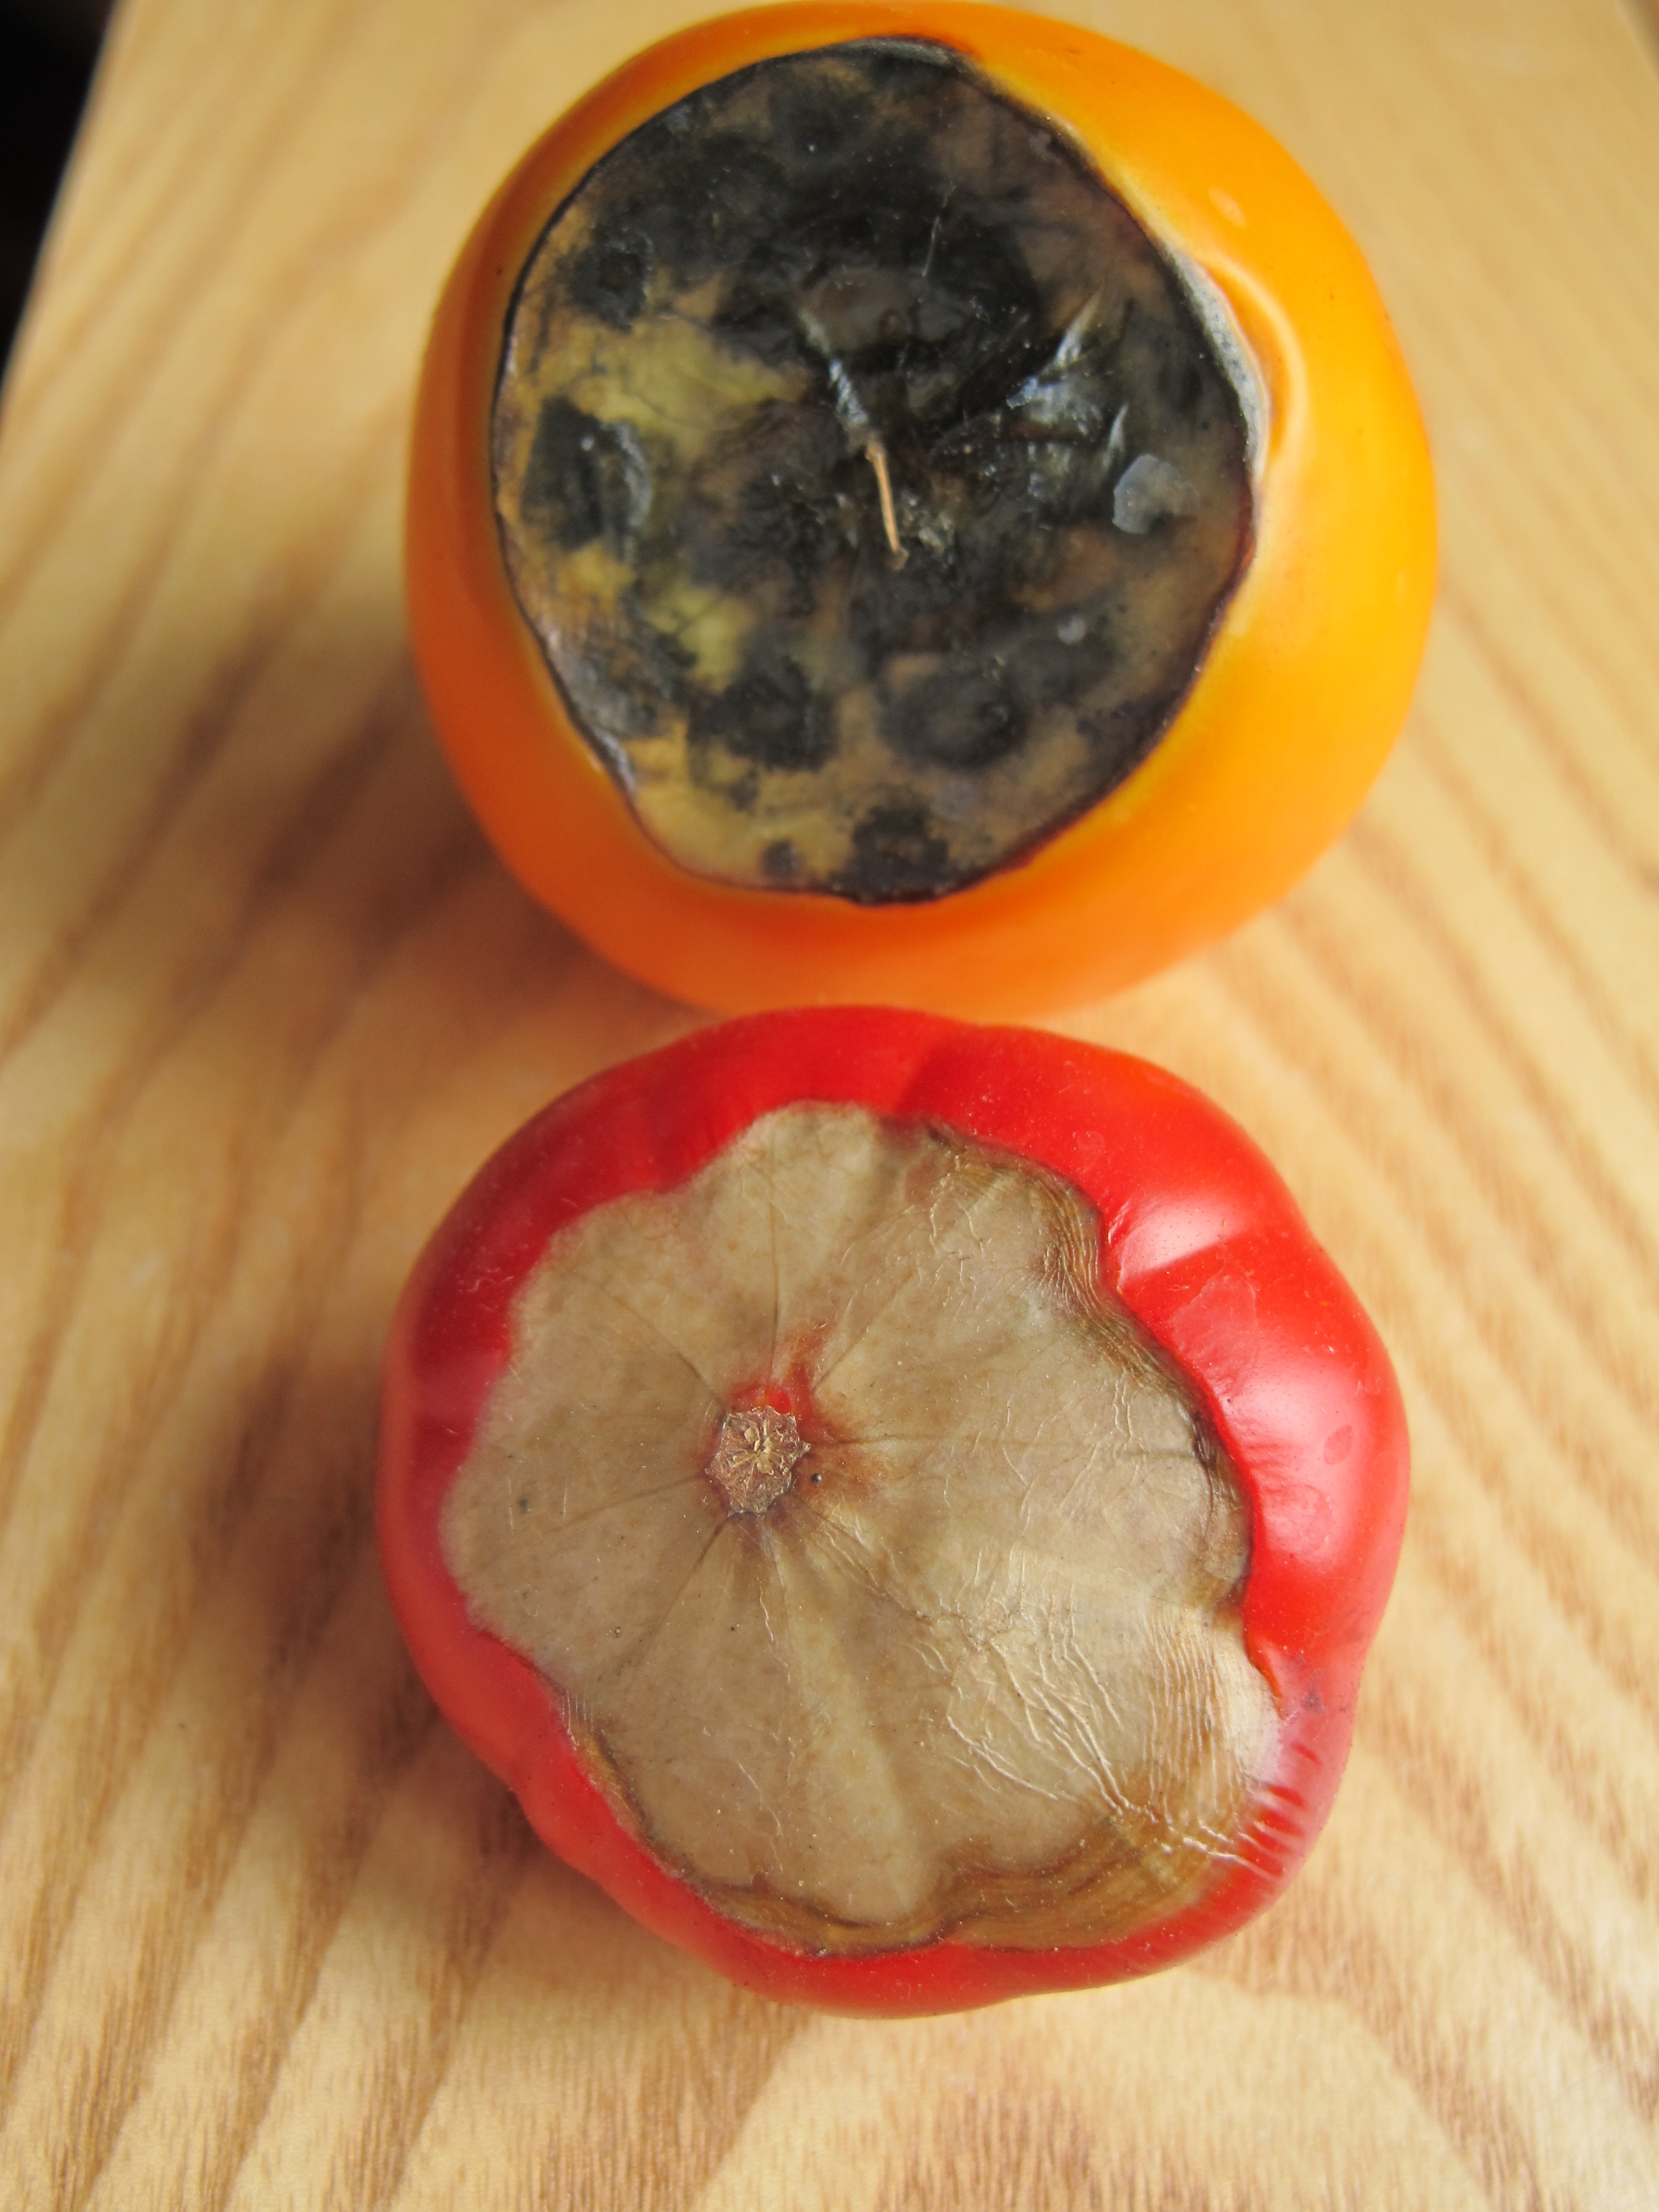blossom_rotw: (444, 1043, 1394, 2080), (427, 0, 1335, 934)
